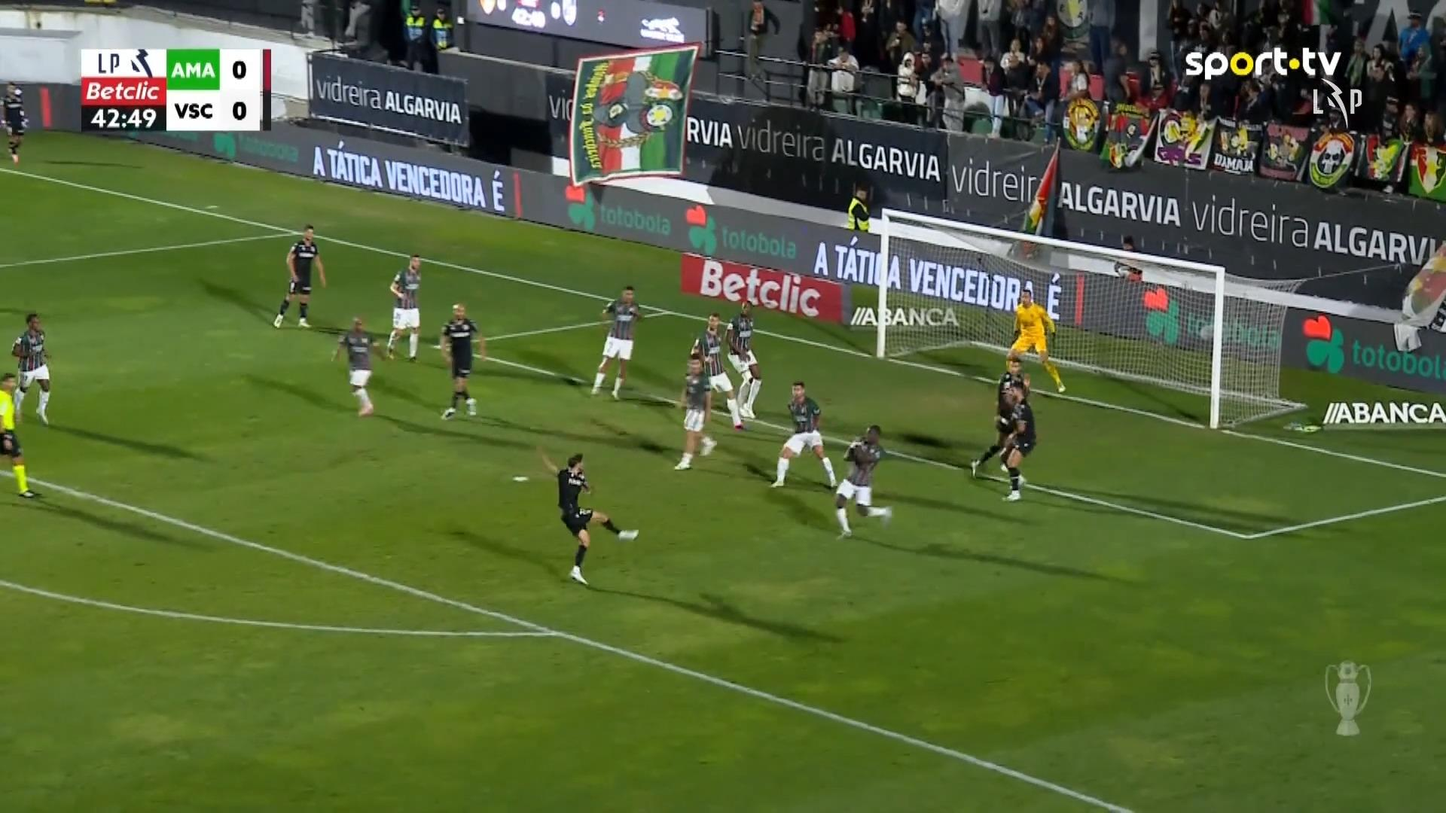ball: (591, 67, 682, 147)
goalkeeper: (1005, 287, 1066, 393)
player: (535, 444, 639, 585), (969, 355, 1032, 479), (768, 379, 837, 489), (833, 424, 892, 539), (690, 312, 746, 431), (590, 285, 642, 400), (438, 303, 487, 419), (272, 223, 326, 328), (330, 315, 384, 416), (673, 350, 717, 470), (997, 375, 1037, 501), (11, 312, 52, 425), (725, 299, 763, 419), (384, 253, 423, 361), (1, 81, 28, 163)
referee: (0, 371, 38, 498)
